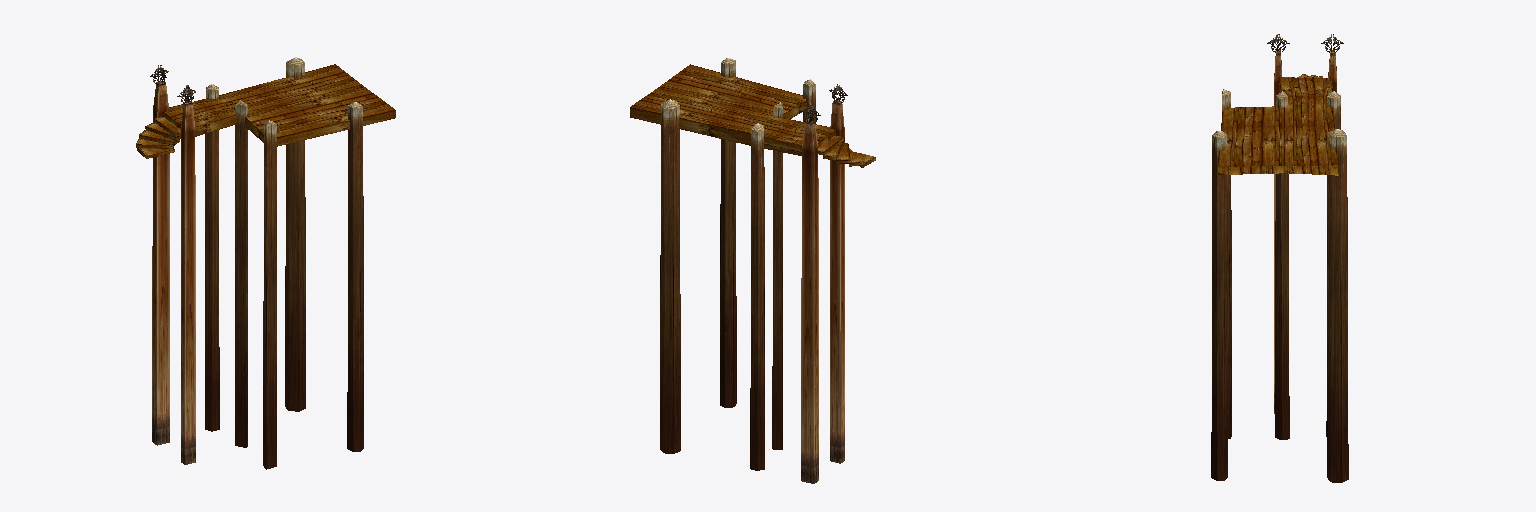
3 renders of one model, left to right at view 1: azimuth 30°, elevation 25°; view 2: azimuth 150°, elevation 25°; view 3: azimuth 270°, elevation 25°, orthographic.
Parts seen in each view (by area): view 1: object 1; view 2: object 1; view 3: object 1.
Part boxes in pixels (x1,y1,x2,y2): object 1: (136, 57, 395, 469); object 1: (630, 58, 875, 483); object 1: (1211, 34, 1348, 482).
Bounding box in the file's own units: 15.95 × 26.48 × 8.7.
4 materials, 4 textured.